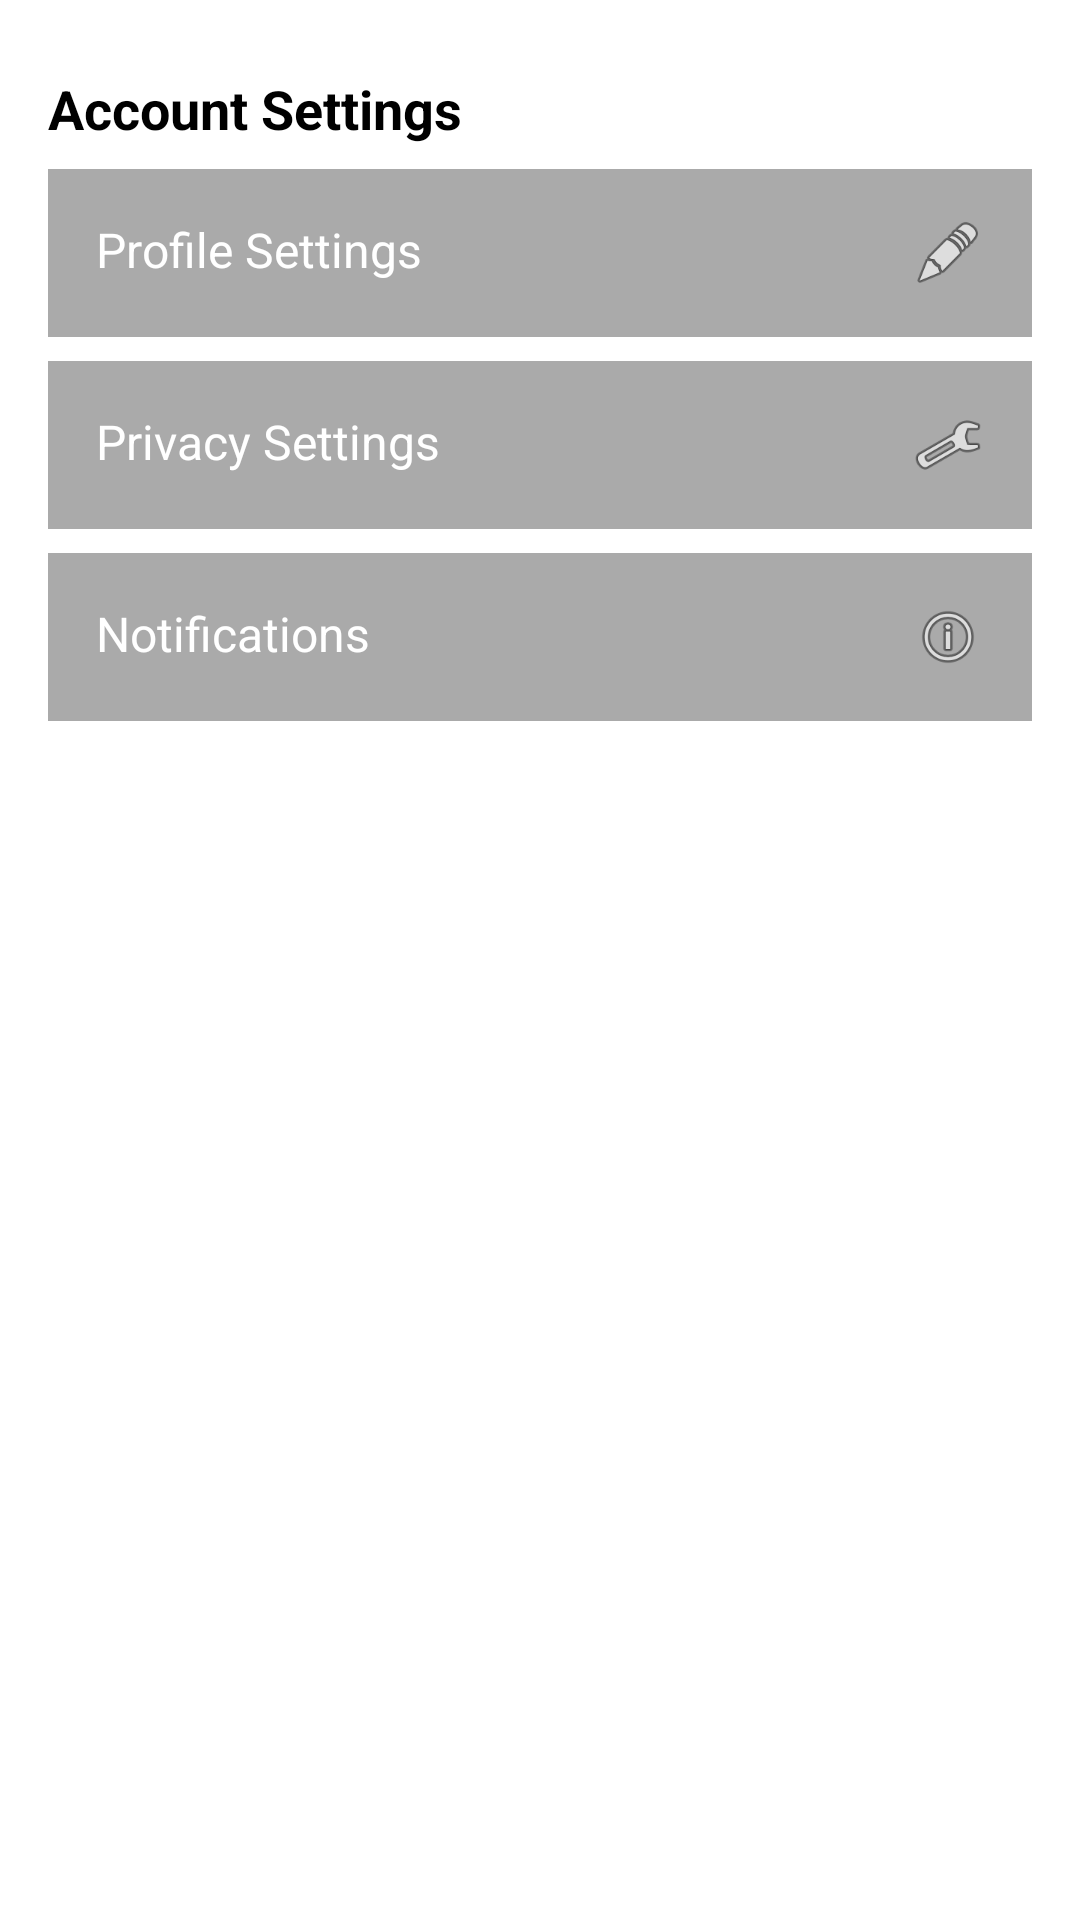

Screen size 1080x1920. Icon name, then its box in pixels as (x1, y1, x2, y2):
Edit Icon: (917, 222, 978, 283)
